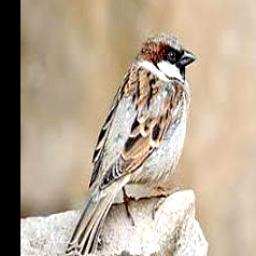Sparrow: (66, 31, 197, 256)
